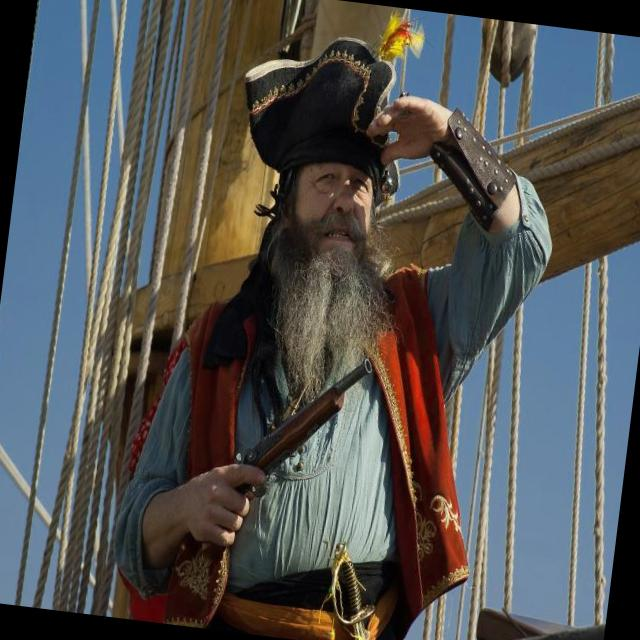Gun: (235, 359, 372, 473)
